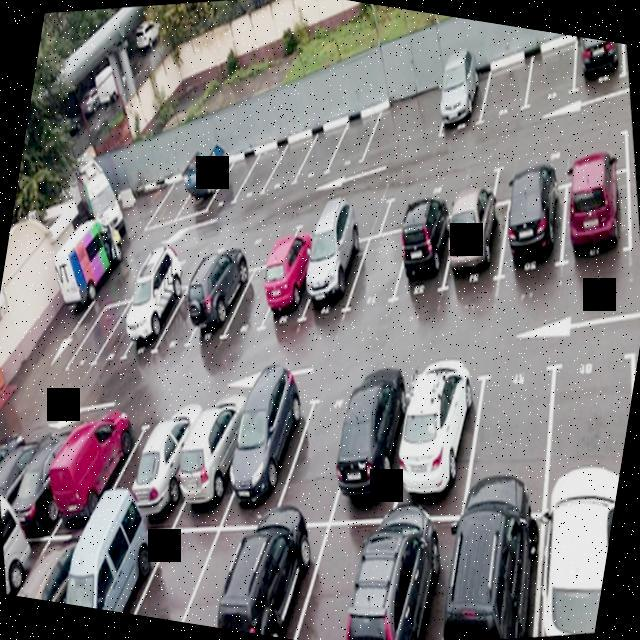car: (312, 358, 431, 526), (382, 352, 493, 516), (434, 501, 557, 640), (211, 374, 322, 524), (49, 496, 176, 618), (358, 506, 472, 640), (280, 509, 395, 640), (222, 508, 335, 640), (42, 400, 147, 532), (169, 390, 267, 528), (116, 401, 215, 536), (521, 497, 614, 640), (2, 418, 91, 540), (550, 170, 640, 287), (490, 183, 576, 289), (12, 526, 118, 610), (434, 201, 520, 300), (387, 196, 465, 300), (115, 270, 197, 368), (298, 230, 377, 330), (256, 238, 330, 337), (184, 257, 258, 352), (428, 62, 496, 150), (564, 36, 636, 103)
free: (256, 366, 372, 536), (456, 353, 565, 514), (534, 342, 638, 498), (170, 508, 287, 636), (114, 508, 232, 627), (492, 112, 636, 206), (380, 142, 504, 232), (85, 404, 178, 518), (78, 272, 168, 382), (56, 283, 142, 384), (115, 230, 215, 305), (288, 187, 389, 257), (339, 224, 414, 318), (221, 256, 290, 351), (469, 52, 544, 139), (152, 270, 222, 358), (516, 34, 586, 118), (213, 212, 301, 272), (292, 110, 355, 188), (203, 143, 265, 217), (322, 106, 384, 178), (230, 141, 288, 207), (263, 128, 319, 191)
